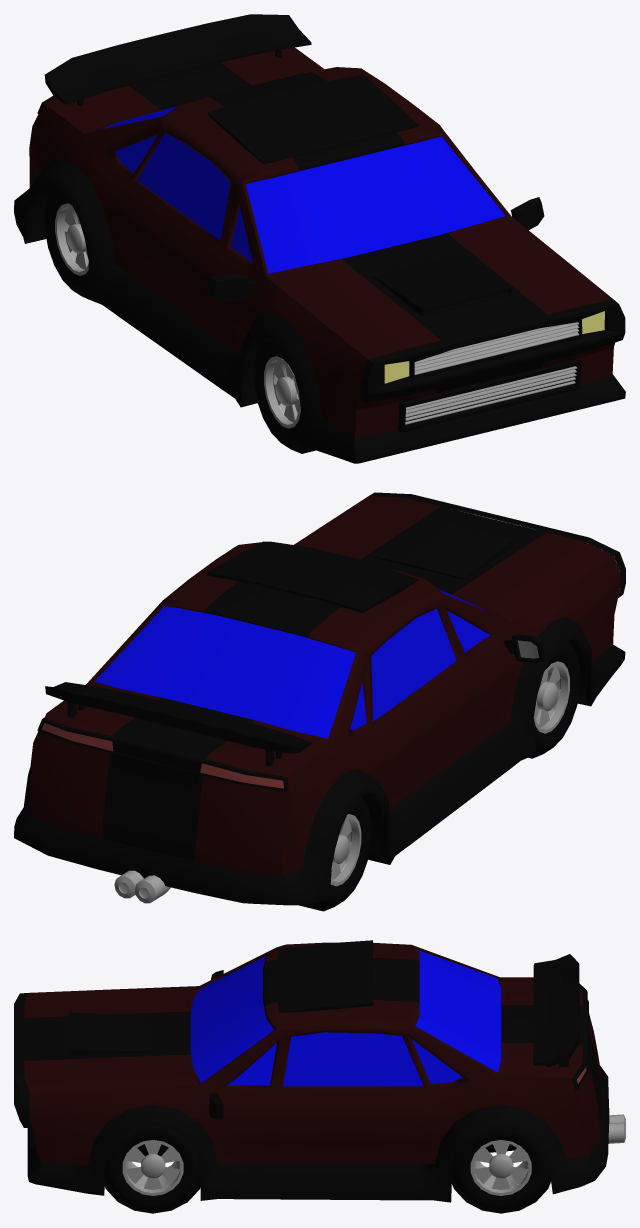
The model's file is Muscle Evolution3 Black LineBlackDarkRed Blue LightGrey.glb.
3 views of the same model, one above another, from view 1: azimuth 30°, elevation 25°; view 2: azimuth 150°, elevation 25°; view 3: azimuth 270°, elevation 25° (orthographic). The views are drawn at different scales.
Visible parts, largest first — view 1: evo3_body1_f1_dupl, evo3_sill3_f1_dupl, evo3_frontGlass_f1_dupl, evo3_rooftop3_f1_dupl, evo3_spoiler3_f1_dupl, evo3_frontBlockGrid3_f1_dupl, evo3_glasseBigR_f1_dupl, evo3_airtrap_front4_f1_dupl, evo3_blockgrid3_f1_dupl, evo3_gridfrontbot3_f1_dupl, evo3_gridfrontup3_f1_dupl, evo3_tire_rf1_f1_dupl (+6 smaller); view 2: evo3_body1_f1_dupl, evo3_sill3_f1_dupl, evo3_BackGlassGlass_f1_dupl, evo3_rooftop3_f1_dupl, evo3_spoiler3_f1_dupl, evo3_glasseBigR_f1_dupl, evo3_airtrap_front4_f1_dupl, evo3_blockbacklight_f1_dupl, evo3_rim_A_rf_f1_dupl, evo3_tire_rf1_f1_dupl, evo3_tire_rf_f1_dupl, evo3_frontBlockGrid3_f1_dupl (+6 smaller); view 3: evo3_body1_f1_dupl, evo3_sill3_f1_dupl, evo3_BackGlassGlass_f1_dupl, evo3_glasseBigL_f1_dupl, evo3_frontGlass_f1_dupl, evo3_rooftop3_f1_dupl, evo3_spoiler3_f1_dupl, evo3_tire_lf_f1_dupl, evo3_tire_lb_f1_dupl, evo3_airtrap_front4_f1_dupl, evo3_rim_A_lf_f1_dupl, evo3_rim_A_lb_f1_dupl (+5 smaller).
Boxes of the visible parts, x1,y1,x2,y2 form: evo3_body1_f1_dupl: (29, 47, 614, 438); evo3_sill3_f1_dupl: (14, 159, 625, 463); evo3_frontGlass_f1_dupl: (246, 136, 505, 273); evo3_rooftop3_f1_dupl: (207, 74, 419, 164); evo3_spoiler3_f1_dupl: (44, 14, 311, 106); evo3_frontBlockGrid3_f1_dupl: (360, 299, 625, 402); evo3_glasseBigR_f1_dupl: (137, 133, 230, 240); evo3_airtrap_front4_f1_dupl: (373, 254, 512, 316); evo3_blockgrid3_f1_dupl: (398, 359, 581, 432); evo3_gridfrontbot3_f1_dupl: (405, 366, 577, 424); evo3_gridfrontup3_f1_dupl: (414, 322, 579, 374); evo3_tire_rf1_f1_dupl: (253, 336, 315, 453); evo3_body1_f1_dupl: (30, 496, 620, 875); evo3_sill3_f1_dupl: (14, 617, 625, 905); evo3_BackGlassGlass_f1_dupl: (95, 606, 355, 738); evo3_rooftop3_f1_dupl: (207, 541, 418, 613); evo3_spoiler3_f1_dupl: (45, 682, 311, 766); evo3_glasseBigR_f1_dupl: (371, 608, 456, 721); evo3_airtrap_front4_f1_dupl: (374, 518, 512, 579); evo3_blockbacklight_f1_dupl: (37, 718, 288, 791); evo3_rim_A_rf_f1_dupl: (533, 661, 569, 733); evo3_tire_rf1_f1_dupl: (528, 641, 580, 758); evo3_tire_rf_f1_dupl: (299, 796, 371, 911); evo3_frontBlockGrid3_f1_dupl: (369, 492, 625, 597); evo3_body1_f1_dupl: (24, 942, 601, 1164); evo3_sill3_f1_dupl: (27, 1065, 609, 1202); evo3_BackGlassGlass_f1_dupl: (415, 950, 501, 1072); evo3_glasseBigL_f1_dupl: (283, 1032, 423, 1086); evo3_frontGlass_f1_dupl: (190, 956, 273, 1083); evo3_rooftop3_f1_dupl: (276, 940, 373, 1012); evo3_spoiler3_f1_dupl: (533, 954, 579, 1066); evo3_tire_lf_f1_dupl: (104, 1125, 200, 1213); evo3_tire_lb_f1_dupl: (451, 1127, 550, 1213); evo3_airtrap_front4_f1_dupl: (68, 1012, 150, 1055); evo3_rim_A_lf_f1_dupl: (122, 1140, 183, 1195); evo3_rim_A_lb_f1_dupl: (470, 1140, 531, 1195).
Size of the model in its own units: 177 by 116 by 335.
Materials: 8 (1 with a texture image).
